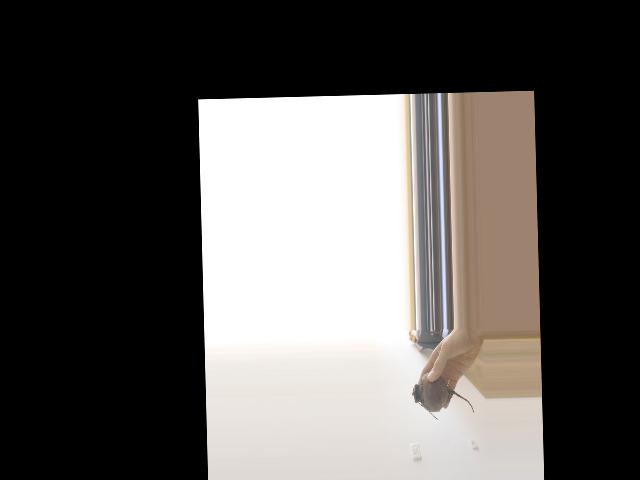beet: (411, 371, 474, 421)
